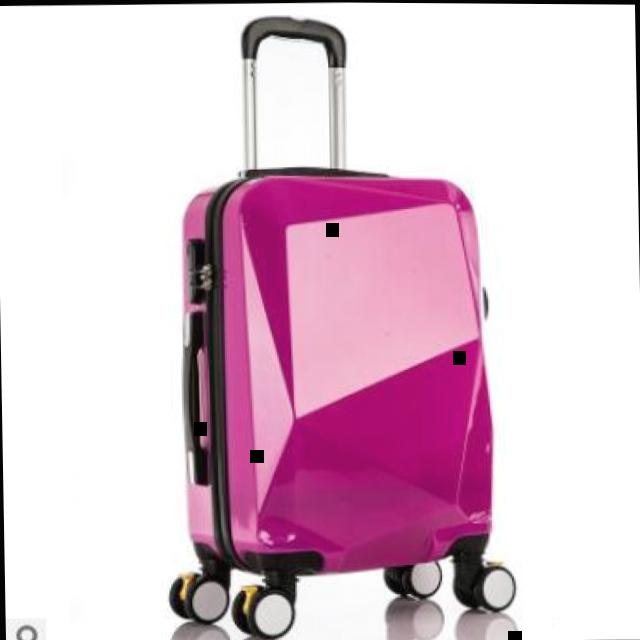luggage: (173, 154, 503, 586)
